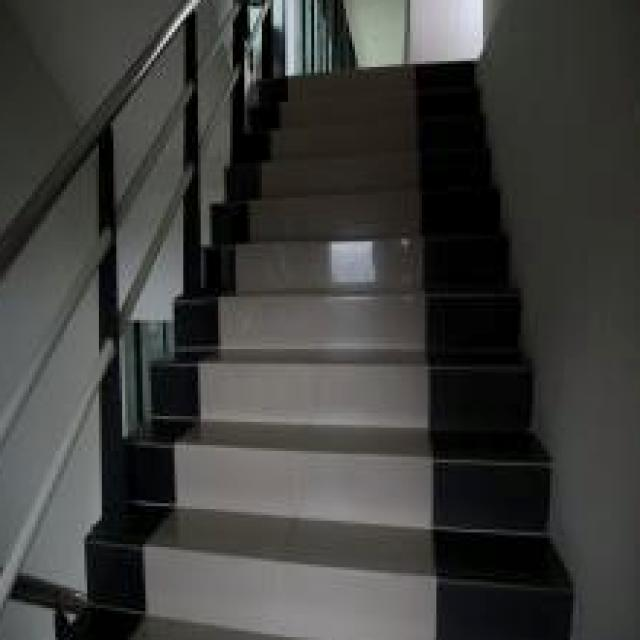upstair: (257, 65, 475, 640)
